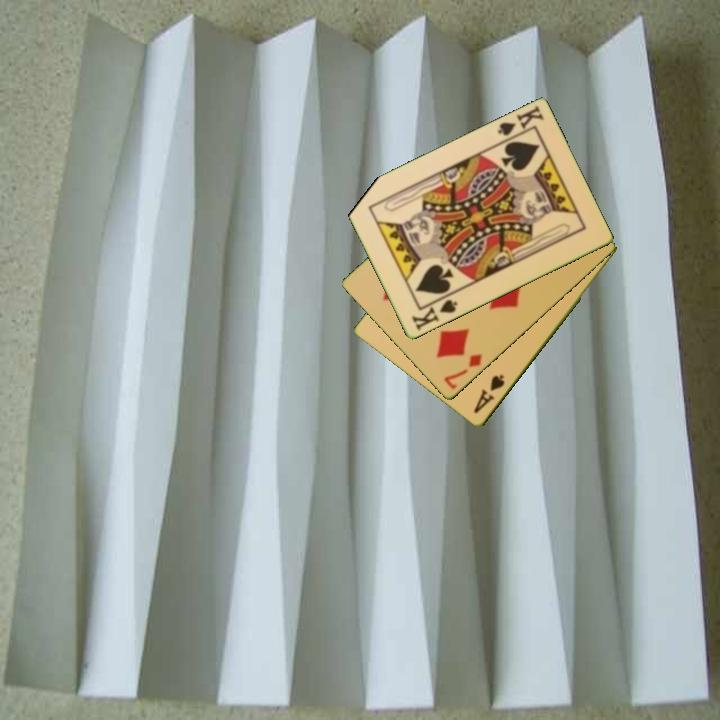7d: (440, 351, 485, 392)
As: (470, 371, 508, 417)
Ks: (494, 102, 547, 146), (408, 291, 460, 334)
